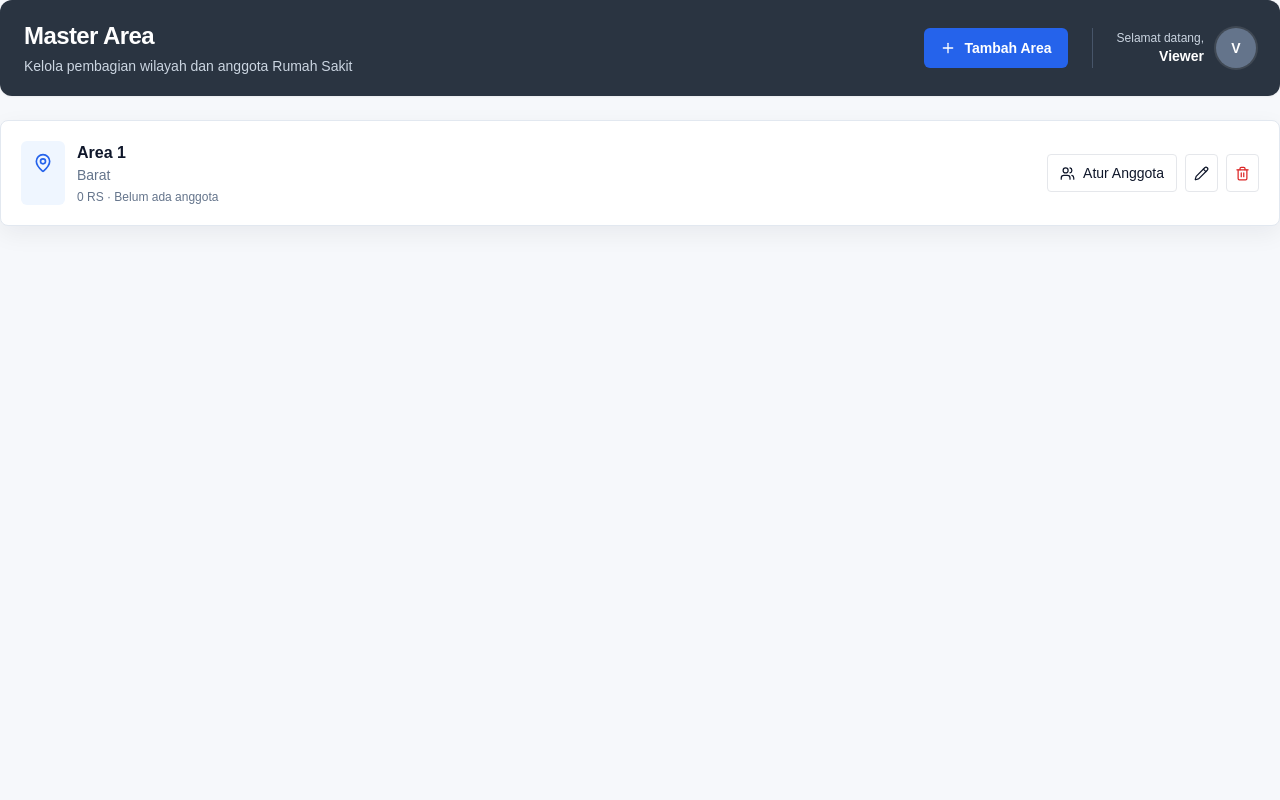
Test: AreasPage › searches hospitals that are eligible as Area members
Click the button "Atur Anggota" at {"x": 1112, "y": 173}, box [1047,154,1177,192]
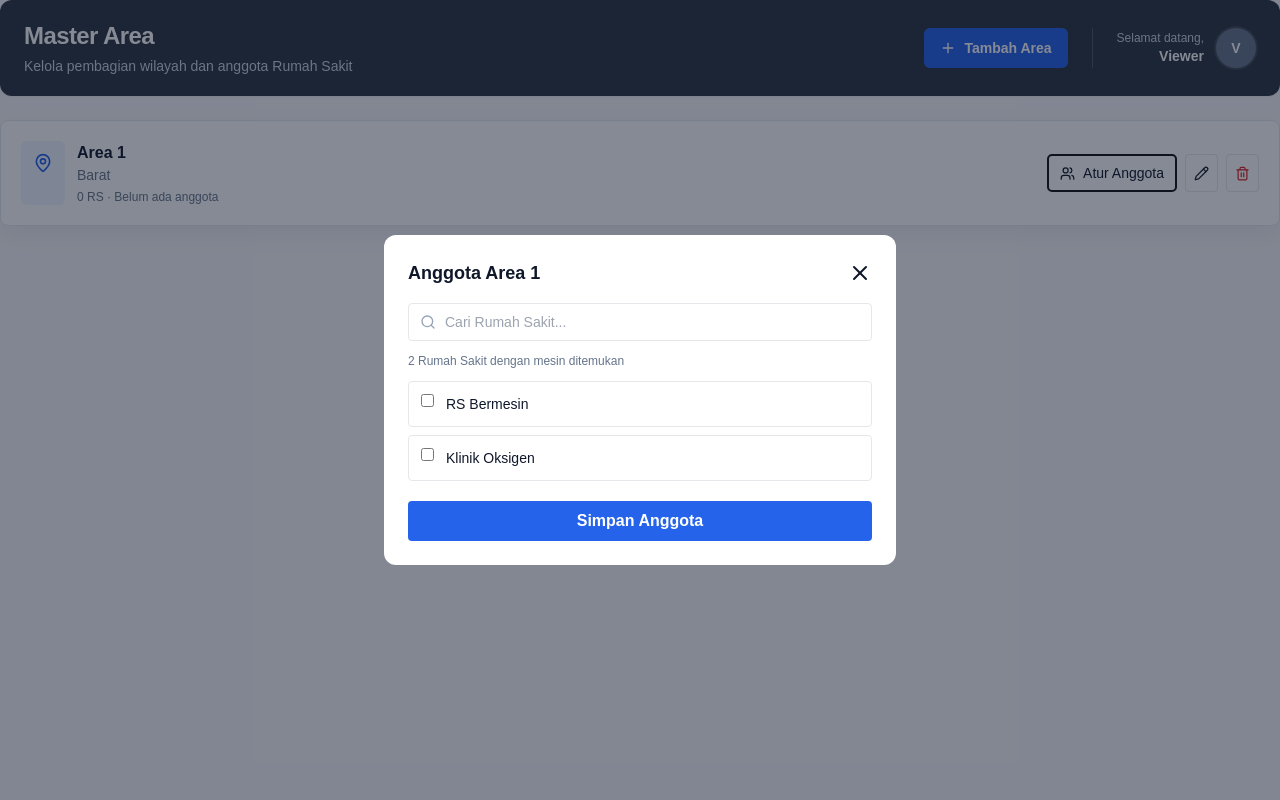
Type "klinik" into the field with placeholder "Cari Rumah Sakit..." at {"x": 640, "y": 322}, box [408,303,872,341]
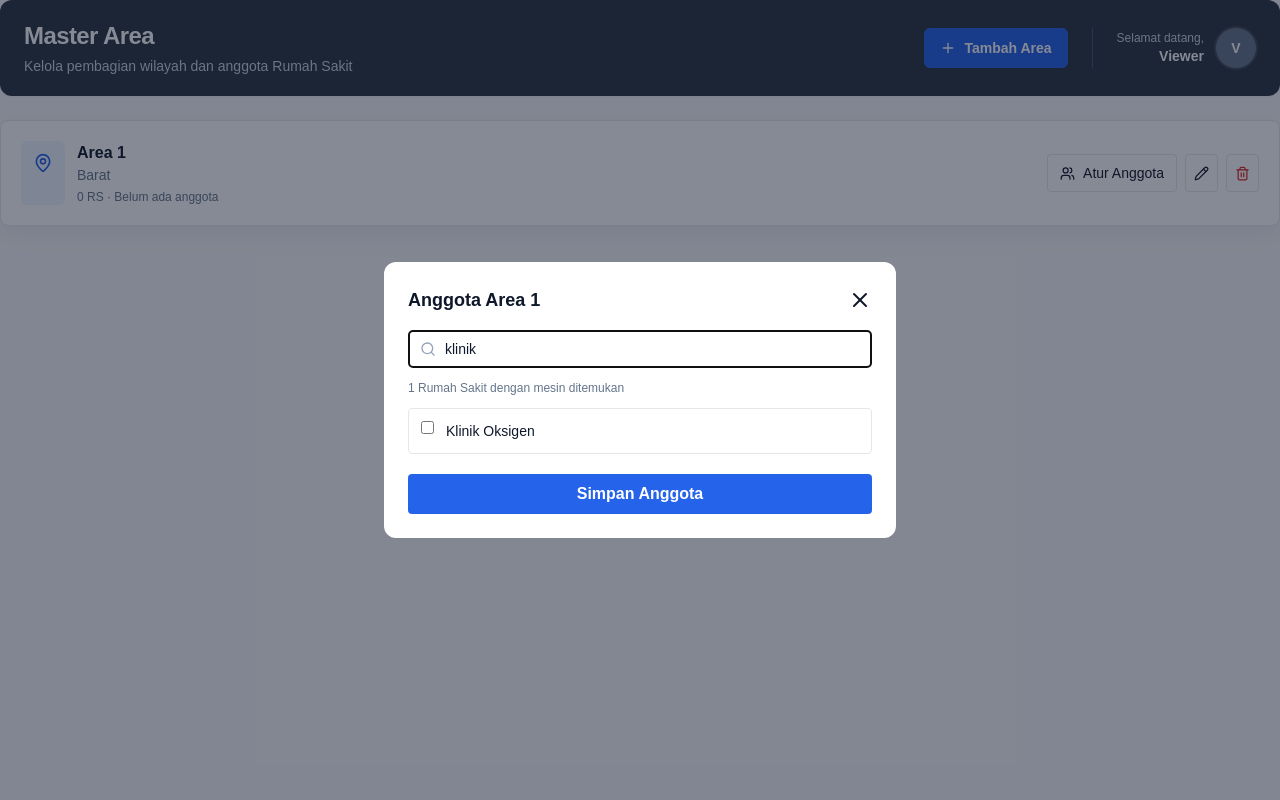
Expected: the text "Klinik Oksigen" is shown, [446,421,535,441]
Expected: the text "RS Bermesin" is gone
